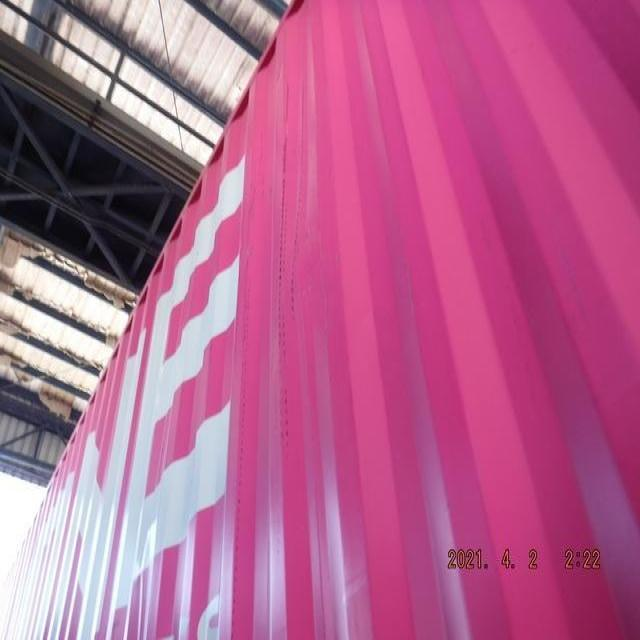dent: (267, 225, 355, 364), (124, 545, 160, 609)
